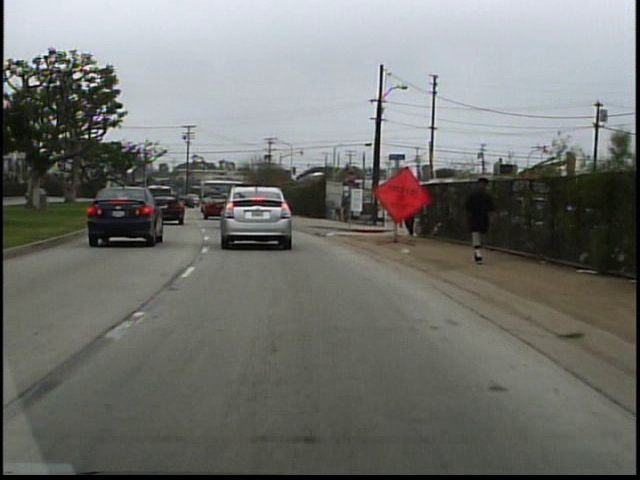person: (459, 170, 498, 269), (396, 183, 425, 241)
